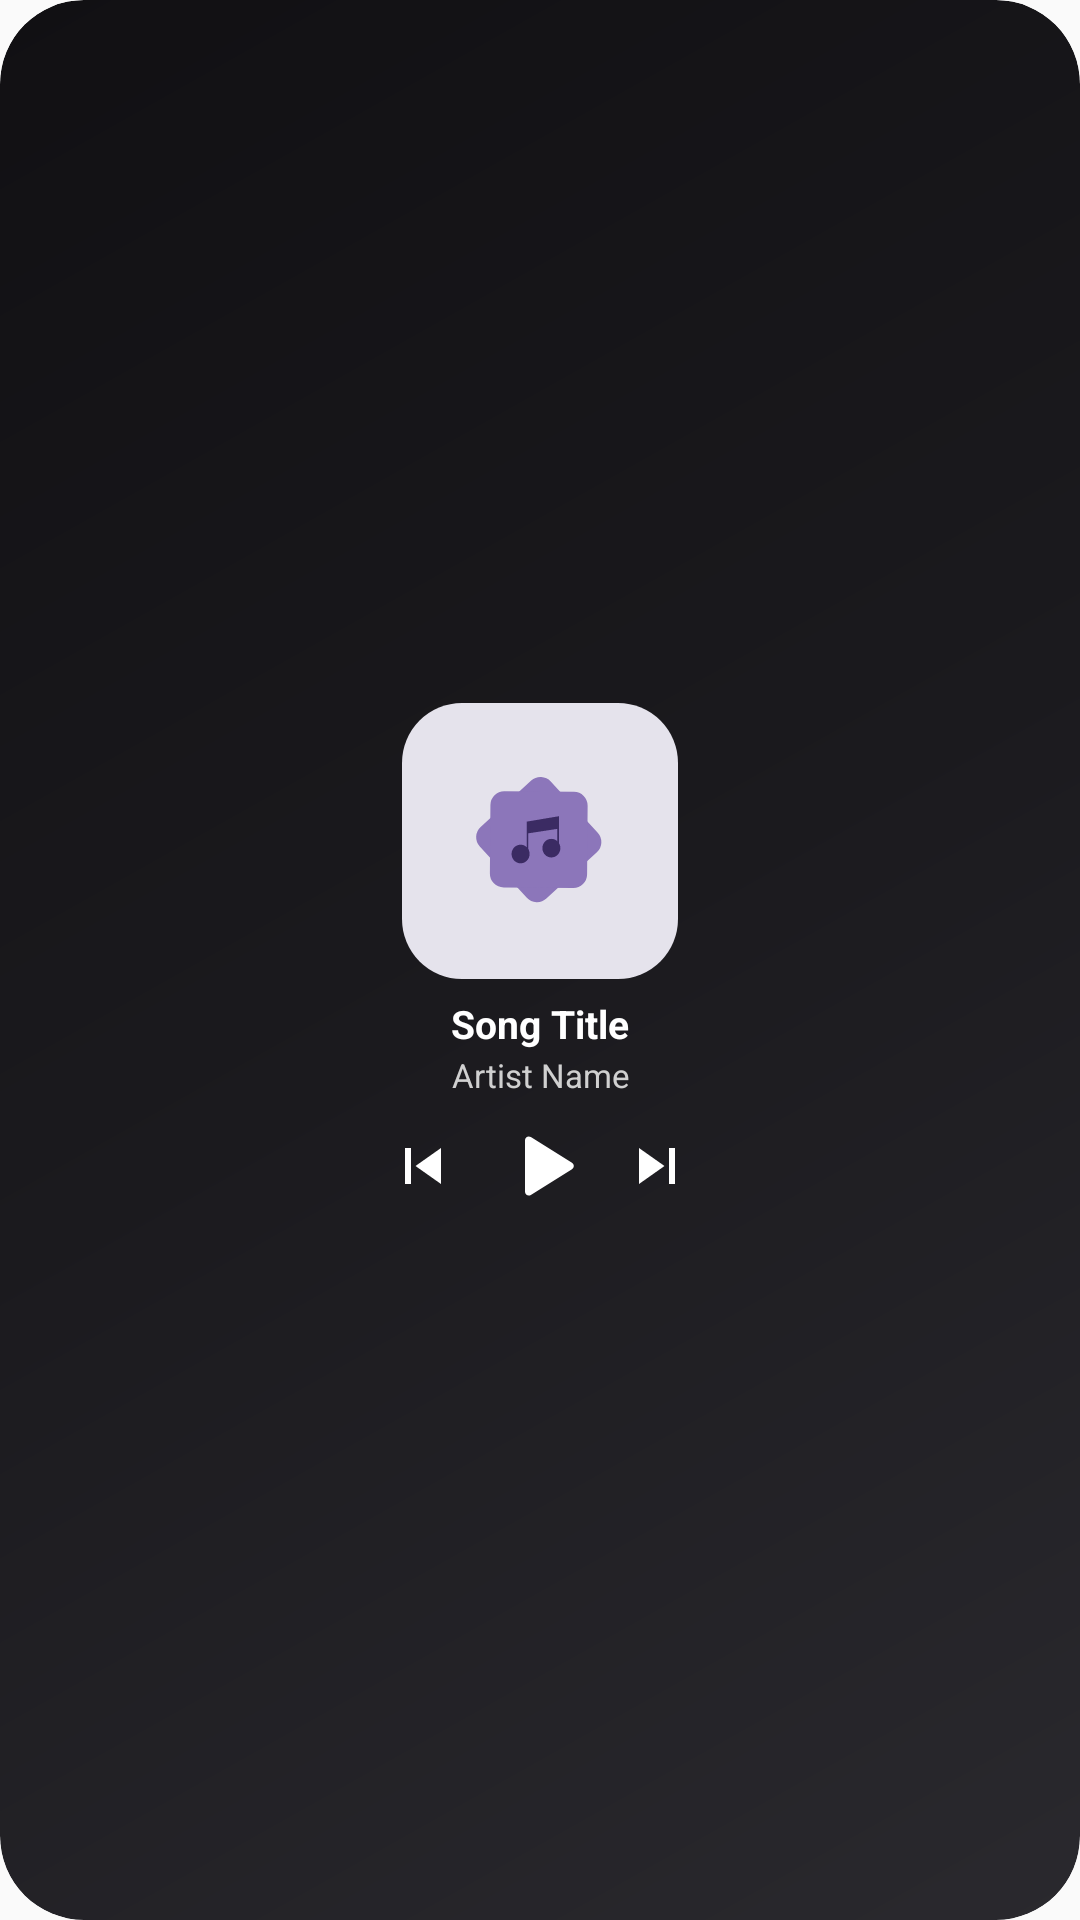

Icons on this 1080×1920 Android screen, each with its box as (x1, y1, x2, y2):
Next: (639, 1148, 675, 1184)
Play/Pause: (525, 1136, 574, 1196)
Previous: (405, 1148, 441, 1184)
